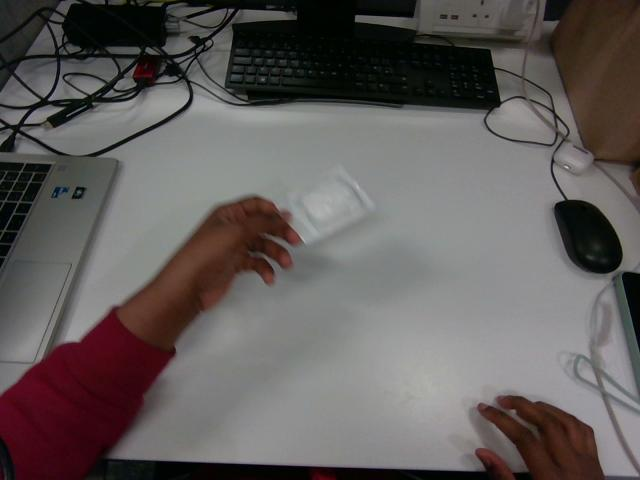gauze: (284, 166, 374, 244)
